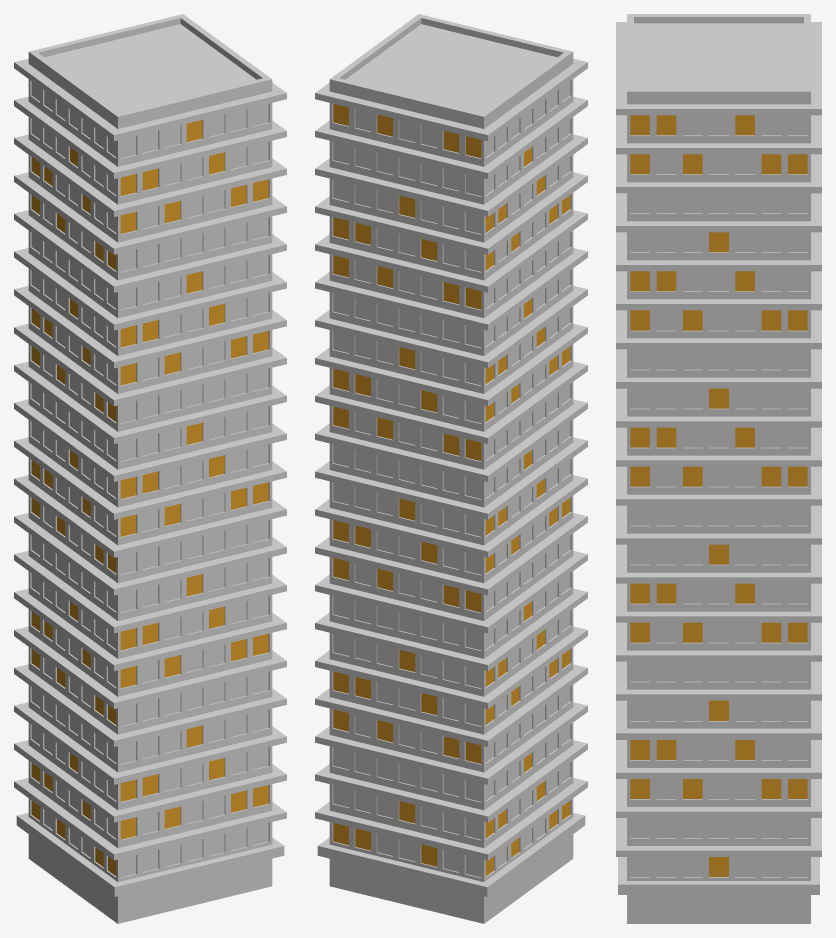
3 views of the same model, side by side, from view 1: azimuth 30°, elevation 25°; view 2: azimuth 150°, elevation 25°; view 3: azimuth 270°, elevation 25° (orthographic). The views are drawn at different scales.
Parts seen in each view (by area): view 1: sBody.002; view 2: sBody.002; view 3: sBody.002.
Part boxes in pixels (x1=…): sBody.002: x1=14, y1=14, x2=286, y2=923; sBody.002: x1=315, y1=14, x2=587, y2=923; sBody.002: x1=616, y1=14, x2=821, y2=923.
Bounding box in the file's own units: 224 × 224 × 999.
